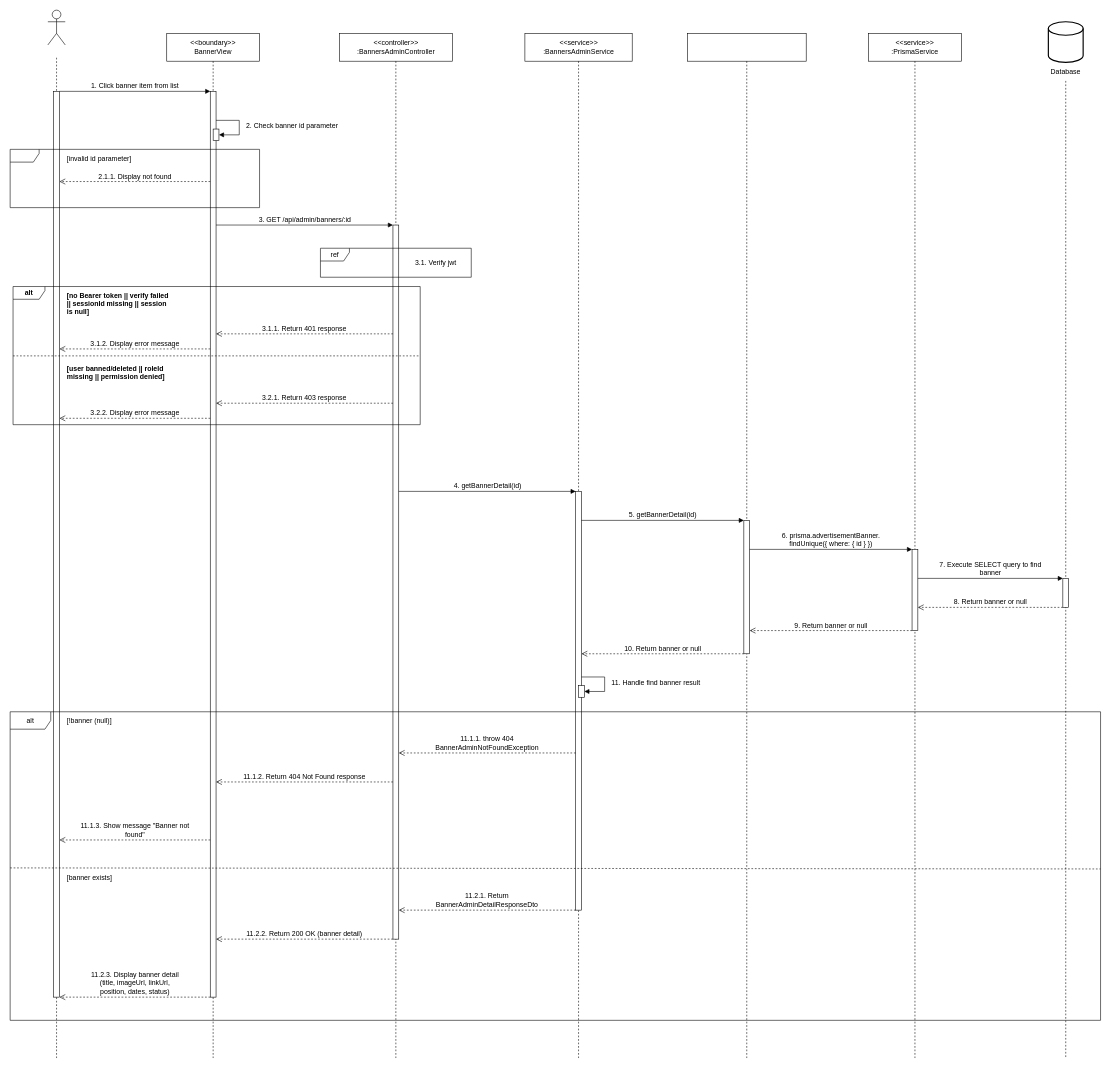
The diagram is 1111 pixels wide and 1069 high, and some of its shapes have lost their labels. Here are the shapes that lost their labels. From the top down, the box of each, then its label:
(47, 10, 65, 45): Admin
(10, 149, 260, 208): opt
(687, 33, 806, 1058): <<repository>> :BannersAdminRepository
